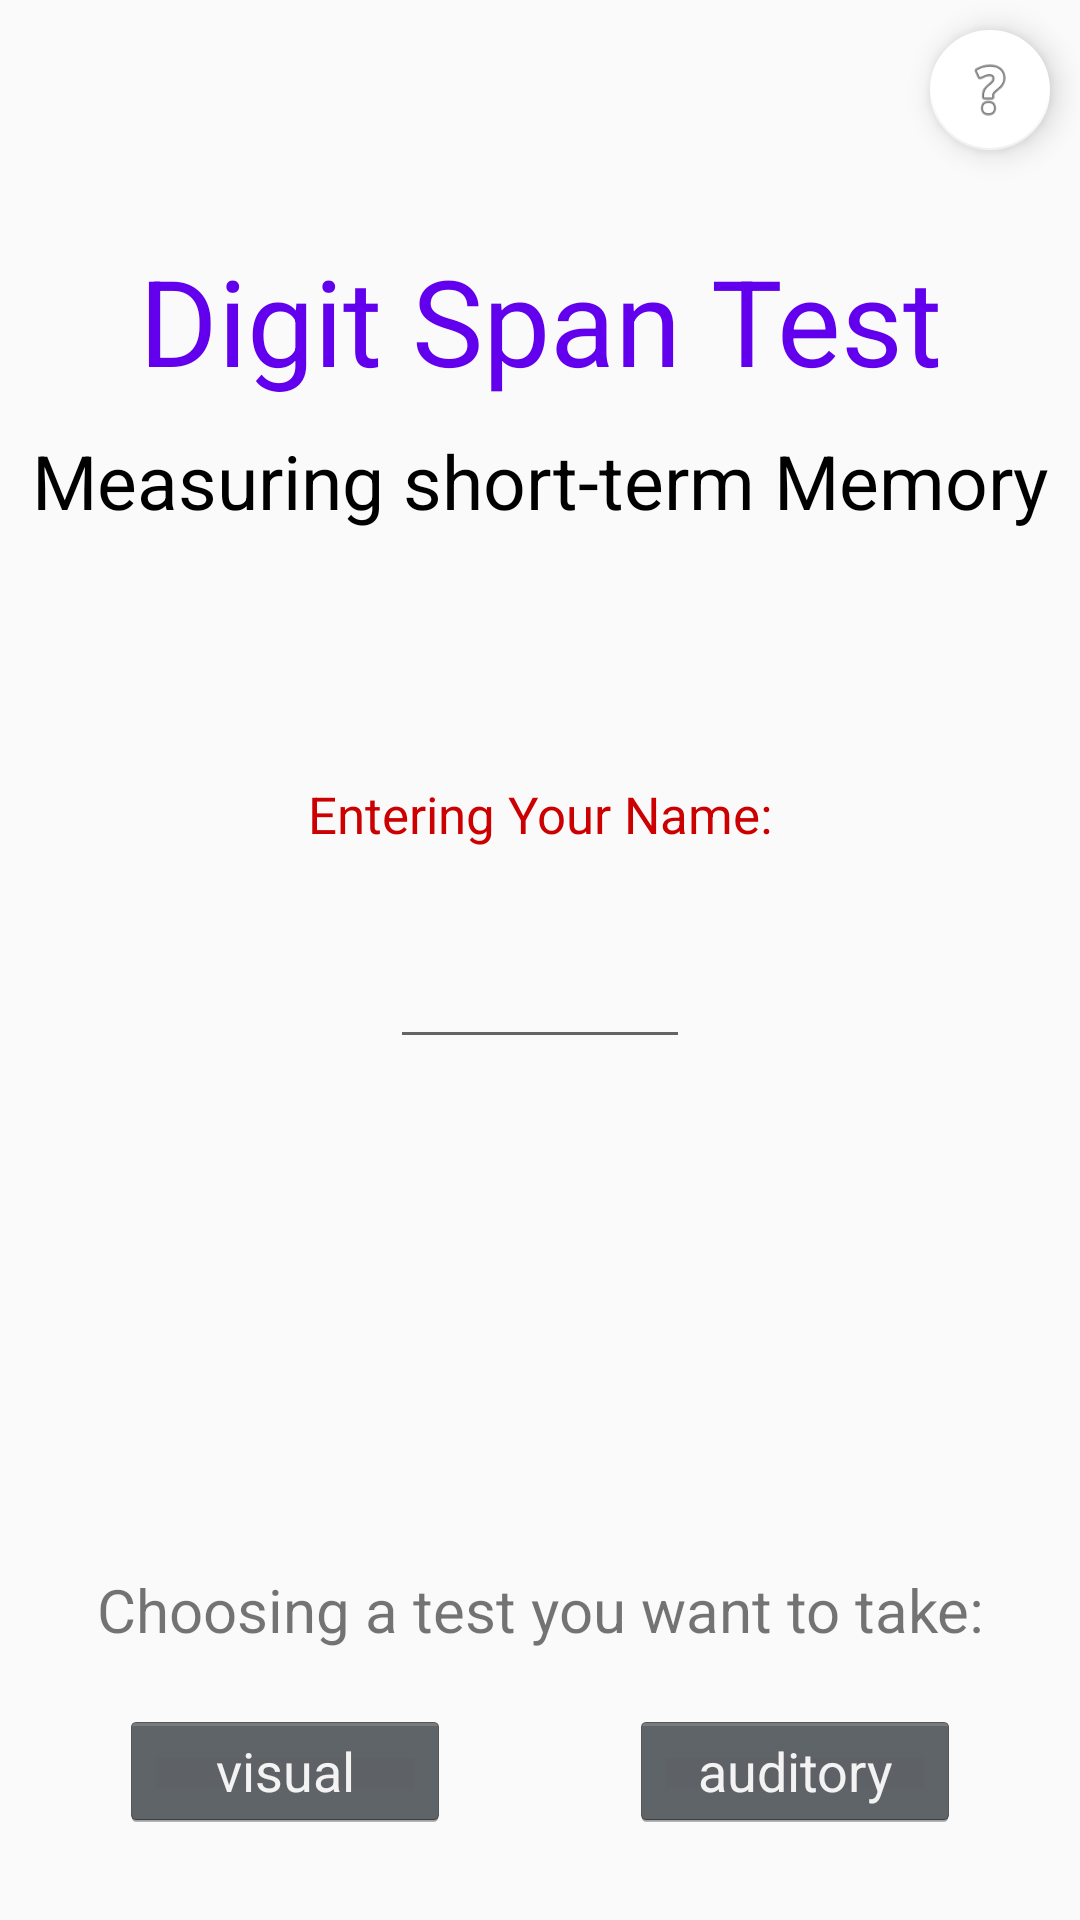

Where to tap for icons on this 1080×1920 app screen, as (x=x, y=y):
help: (x=990, y=90)
